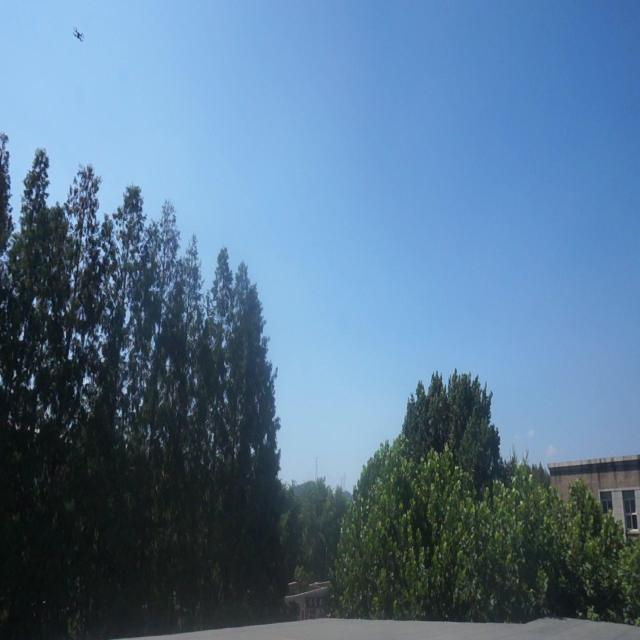drone: (72, 24, 84, 44)
